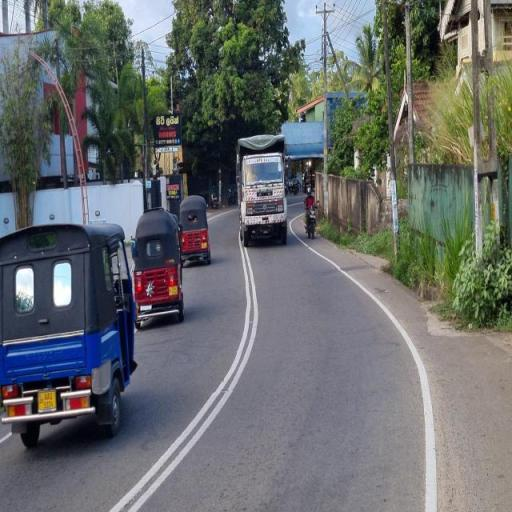double_white_line: (110, 246, 260, 510)
